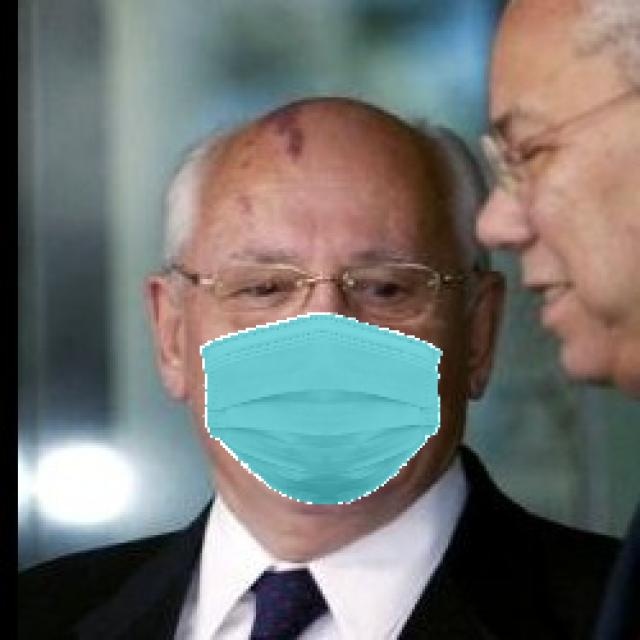mask: (182, 297, 457, 503)
